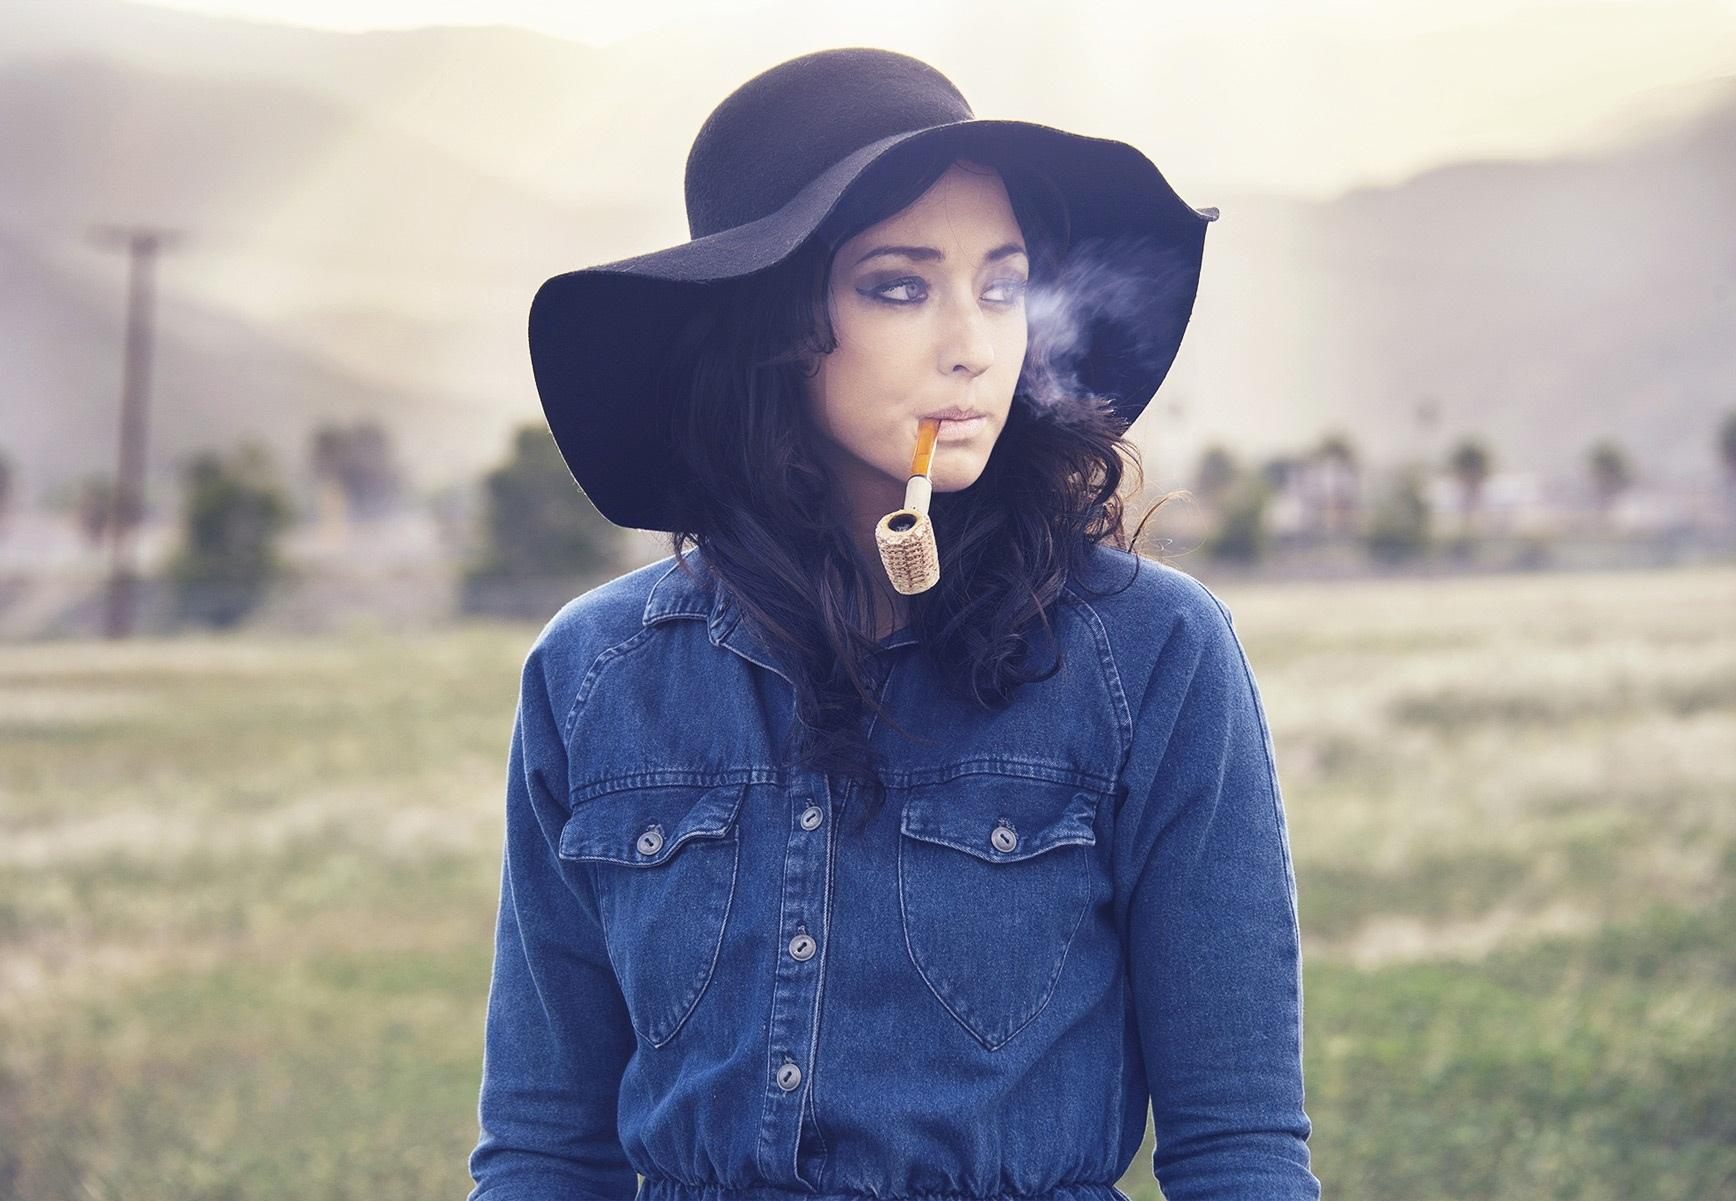trubka: (875, 421, 939, 595)
